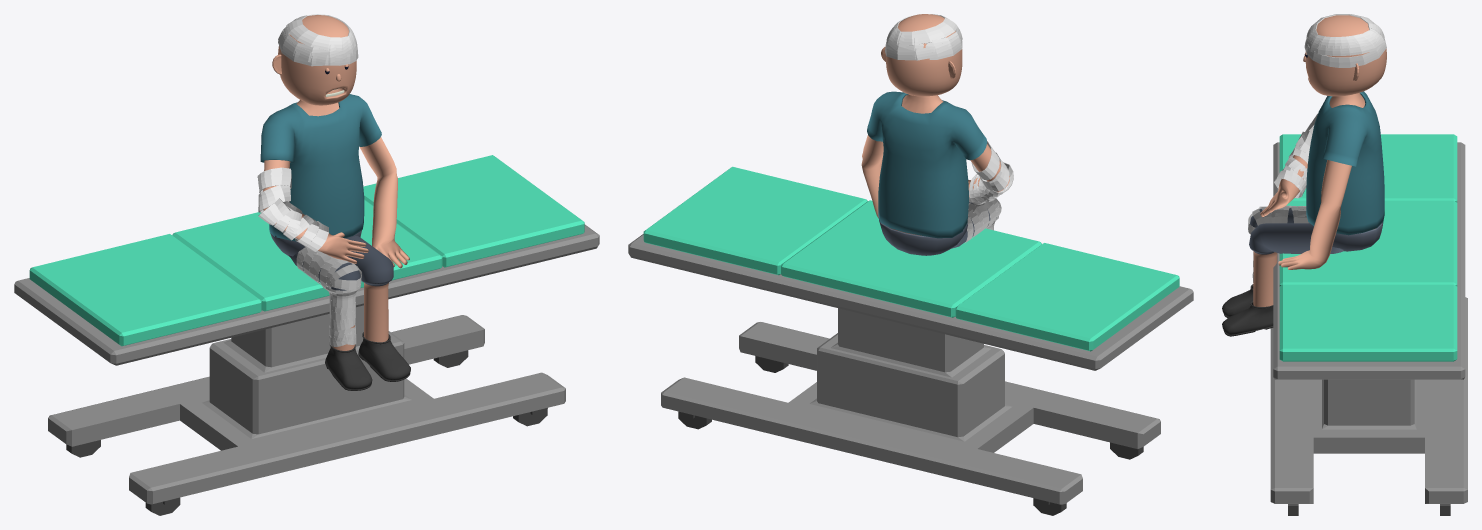
The model's file is patientsitting.fbx.
3 renders of one model, left to right at view 1: azimuth 30°, elevation 25°; view 2: azimuth 150°, elevation 25°; view 3: azimuth 270°, elevation 25°, orthographic. The views are drawn at different scales.
Parts seen in each view (by area): view 1: Cube, patient, Cube.003, Cube.002, Cube.001, operation table; view 2: Cube, patient, Cube.003, Cube.001, Cube.002, operation table; view 3: Cube, patient, Cube.002, Cube.001, Cube.003.
Part boxes in pixels (x1,y1,x2,y2): Cube: (14, 224, 599, 504); patient: (257, 14, 410, 390); Cube.003: (29, 234, 261, 346); Cube.002: (363, 155, 584, 267); Cube.001: (172, 199, 442, 311); operation table: (66, 350, 547, 515); Cube: (628, 234, 1193, 504); patient: (861, 14, 1013, 255); Cube.003: (955, 243, 1179, 351); Cube.001: (781, 200, 1041, 317); Cube.002: (643, 166, 867, 275); operation table: (678, 356, 1143, 515); Cube: (1270, 142, 1467, 503); patient: (1222, 14, 1386, 336); Cube.002: (1279, 284, 1457, 361); Cube.001: (1279, 200, 1457, 286); Cube.003: (1279, 134, 1457, 202).
Size of the model in its own units: 218 by 182 by 99.49.
